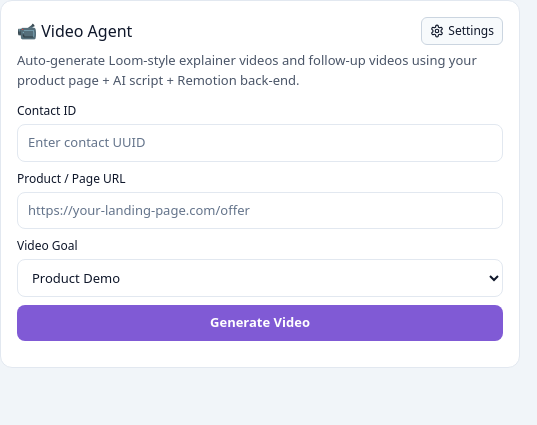
Test: VideoAgentPanel › Video Generation › should handle generation errors gracefully
Type "contact-123" into the field with placeholder "Enter contact UUID" at (260, 143), box [17,124,503,162]
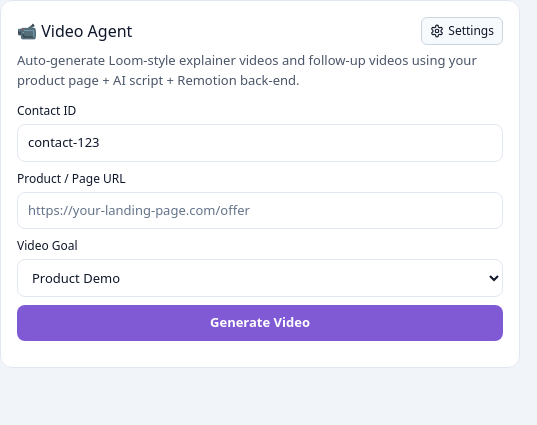
Type "https://example.com" into the field with placeholder "https://your-landing-page.com/offer" at (260, 210), box [17,192,503,229]
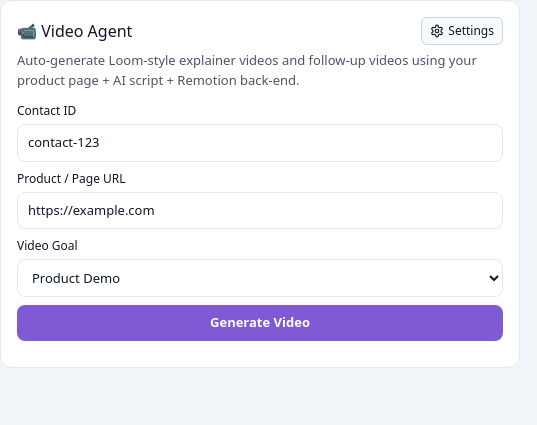
Click the button "Generate Video" at (260, 323), box [17,305,503,340]
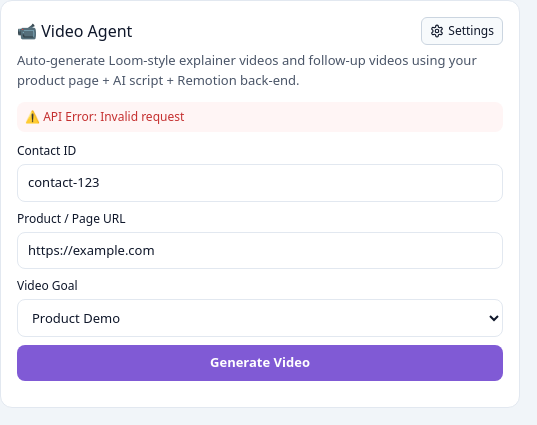
Expected: the text "⚠️ API Error: Invalid request" is shown, [17,102,503,132]
